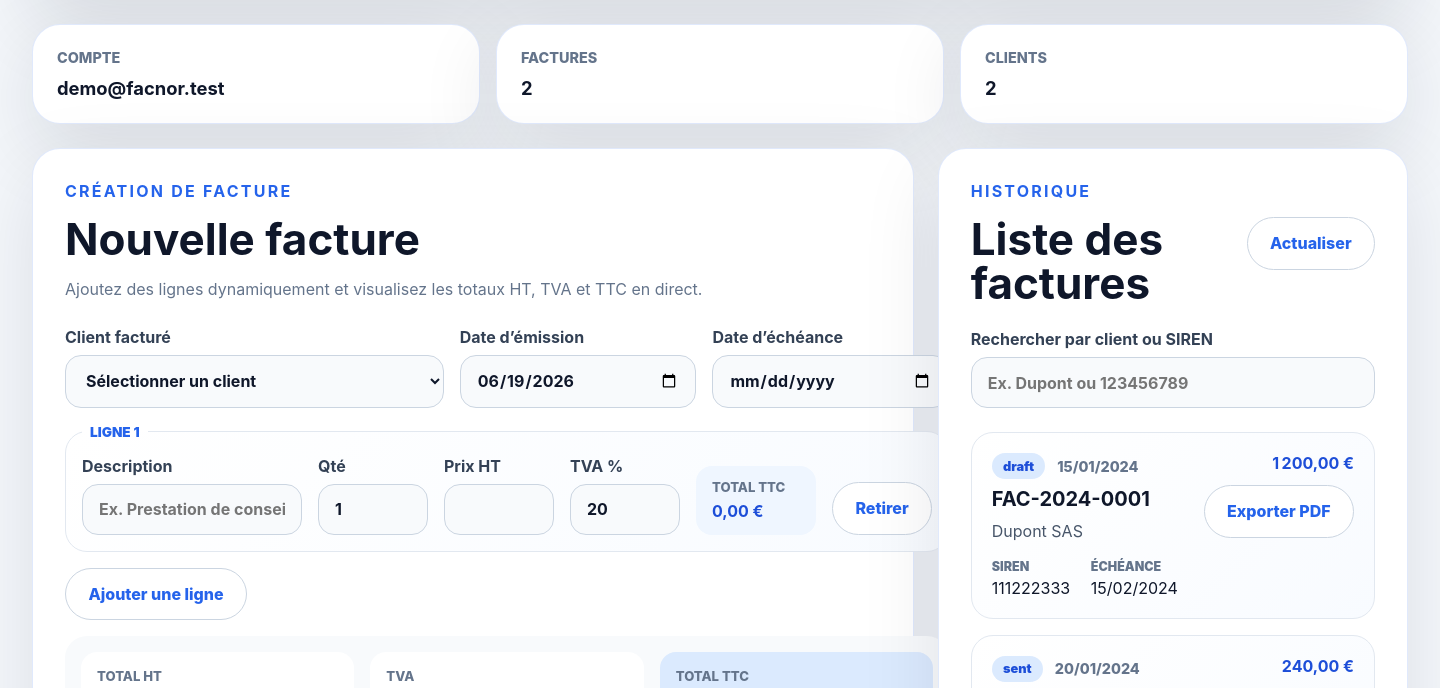
Dashboard invoices › filters invoices accent-insensitively and exports a PDF filename from headers
This screenshot has width=1440, height=688.
(page scrolled)
Expected: the heading "FAC-2024-0001" is shown, 992,487 -> 1150,511
Type "elodie" into the search field labelled "Rechercher par client ou SIREN".
click(1173, 383); type("elodie")  # box 971,358 -> 1375,408
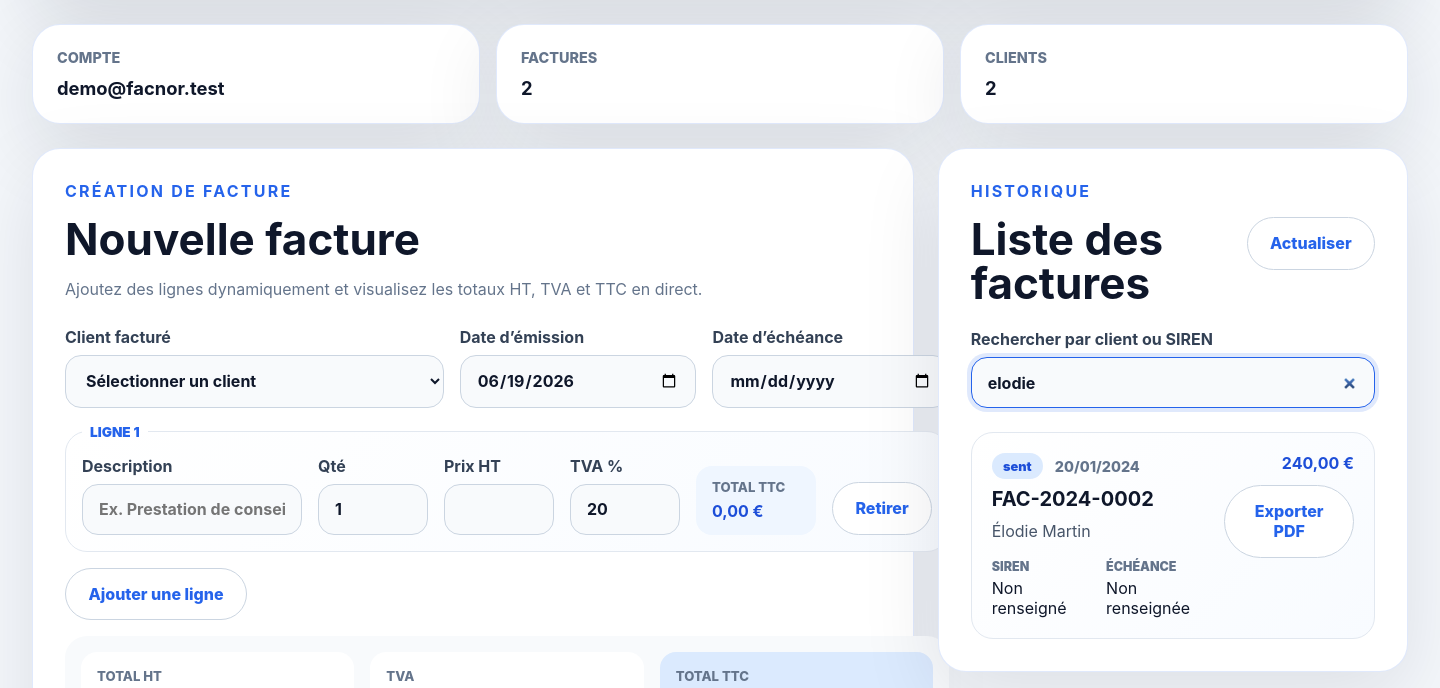
Expected: the heading "FAC-2024-0002" is shown, 992,487 -> 1154,511
Result: the heading "FAC-2024-0001" is gone
Replace the text in the search field labelled "Rechercher par client ou SIREN" with "111222333" at (1173, 383), box 971,358 -> 1375,408
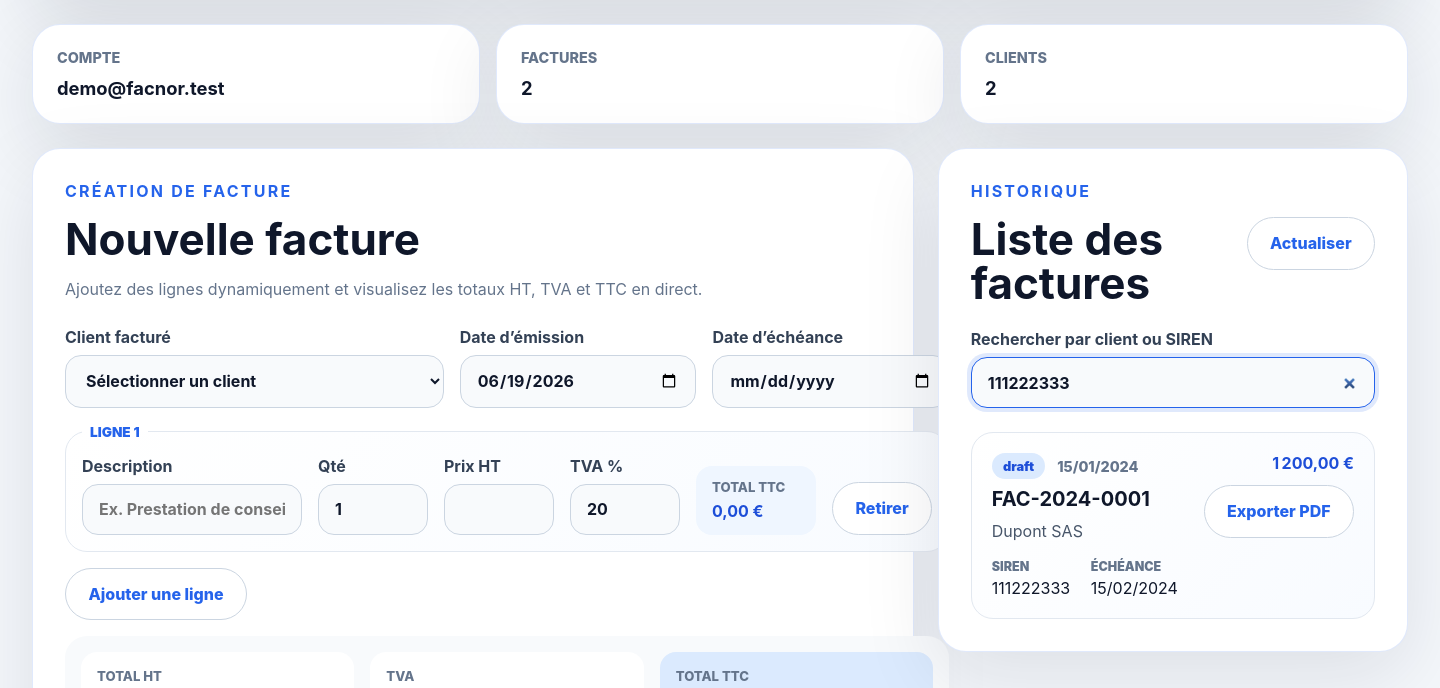
Click the button "Exporter PDF".
click(1279, 512)  # box 1204,485 -> 1354,538
(page scrolled)
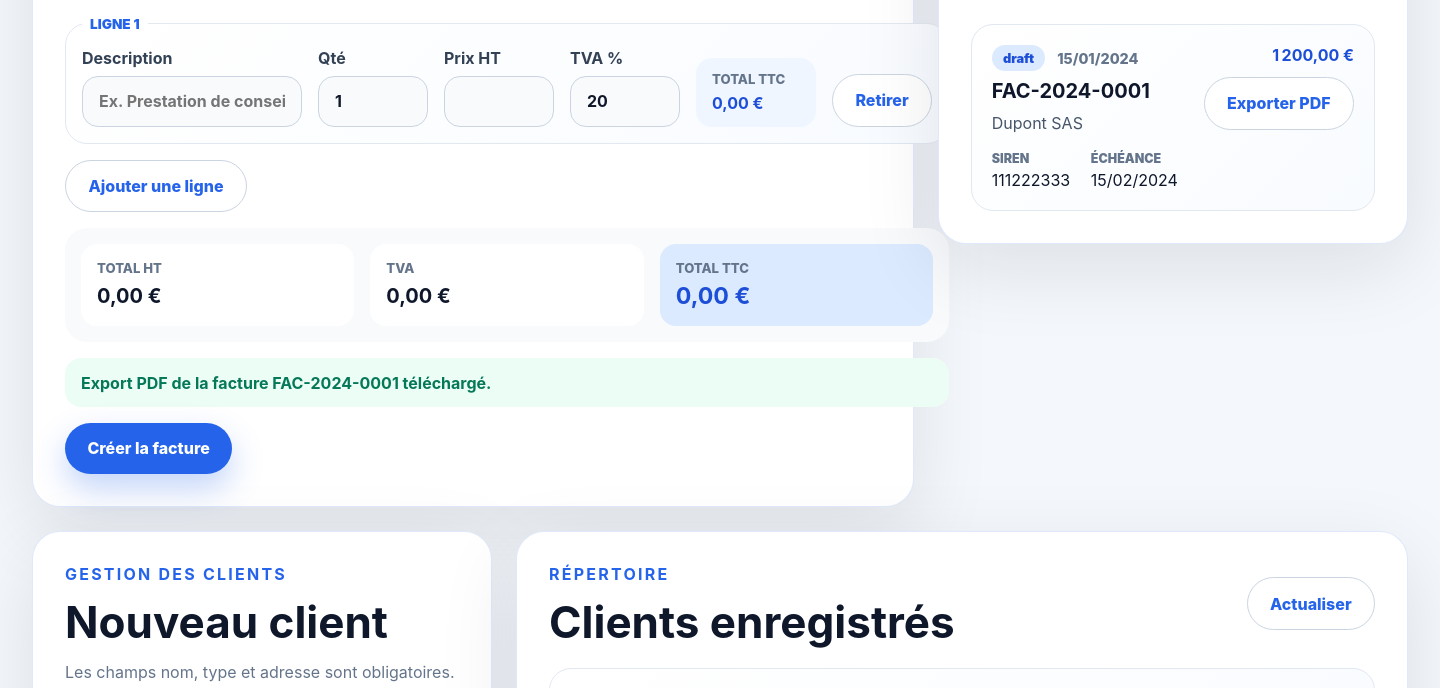
Result: the message reads "Export PDF de la facture FAC-2024-0001 téléchargé." at 81,373 -> 491,393
